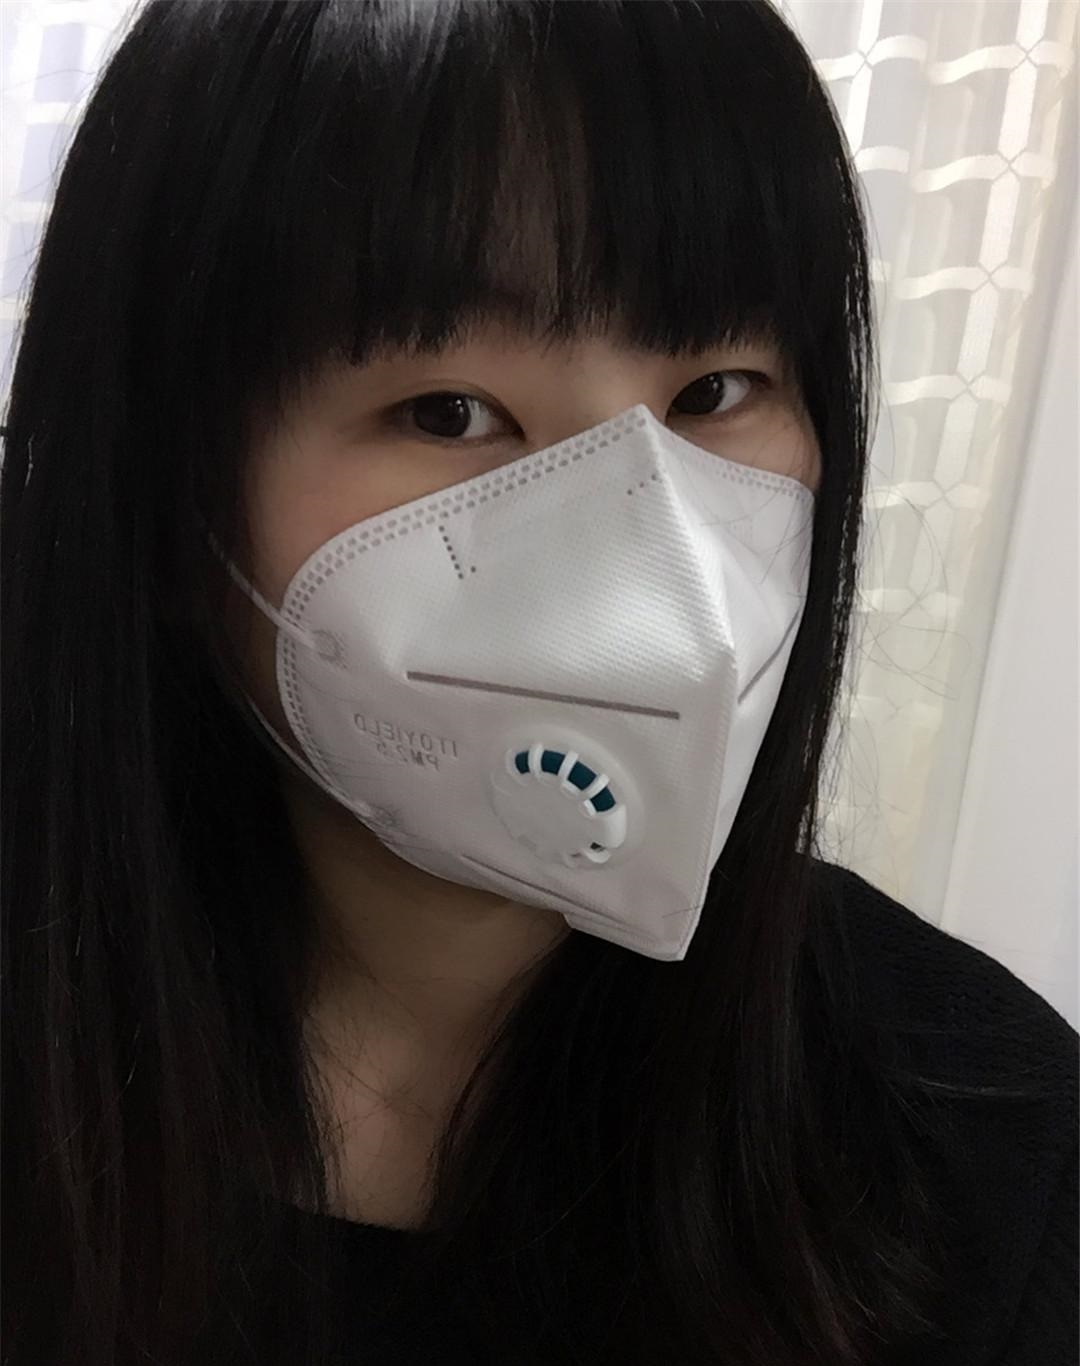face_mask: (260, 113, 823, 946)
